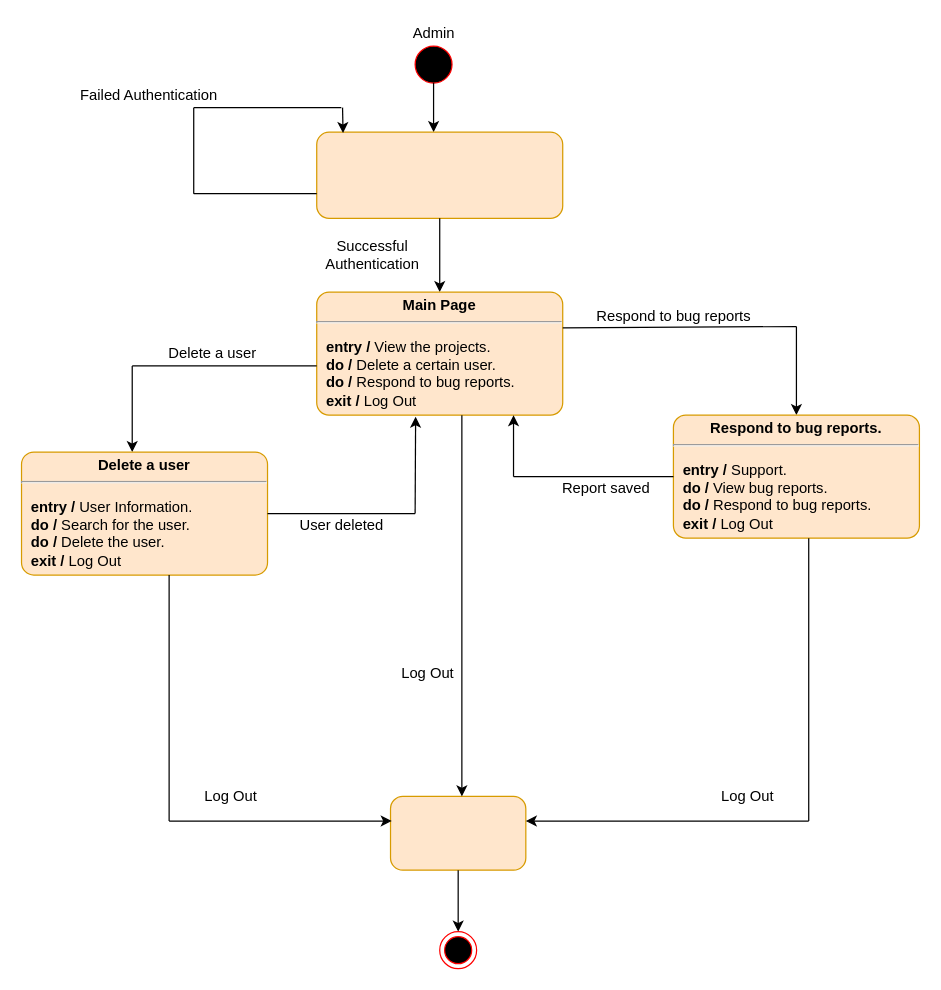
Image size: 941x990. Some labels were removed from this diagram. Each missing label, with the box of its shape:
Log In entry / Enter Credentials exit / Authentication Successful: (315, 131, 563, 218)
Log Out exit / Logged Out: (389, 795, 526, 870)
